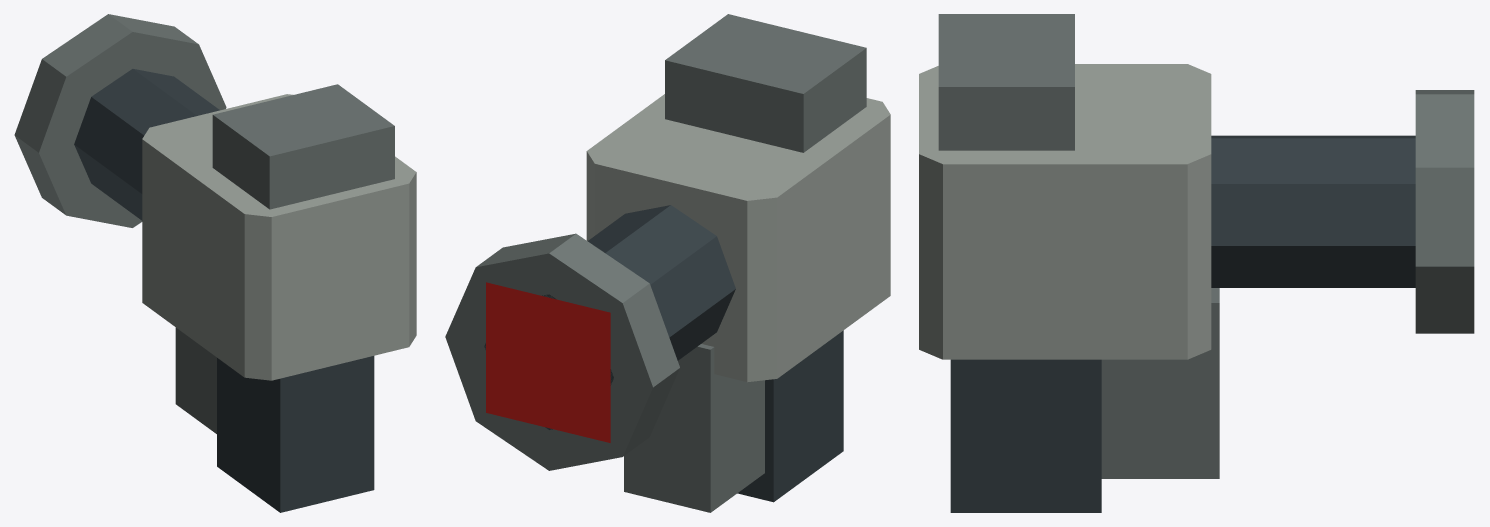
3 renders of one model, left to right at view 1: azimuth 30°, elevation 25°; view 2: azimuth 150°, elevation 25°; view 3: azimuth 270°, elevation 25°, orthographic. The views are drawn at different scales.
Parts seen in each view (by area): view 1: mount; view 2: mount; view 3: mount.
Boxes of the visible parts, <box> form: mount: <box>14,14,416,512</box>; mount: <box>445,14,890,512</box>; mount: <box>919,14,1474,512</box>.
Size of the model in its own units: 4.68 by 8.68 by 10.06.
